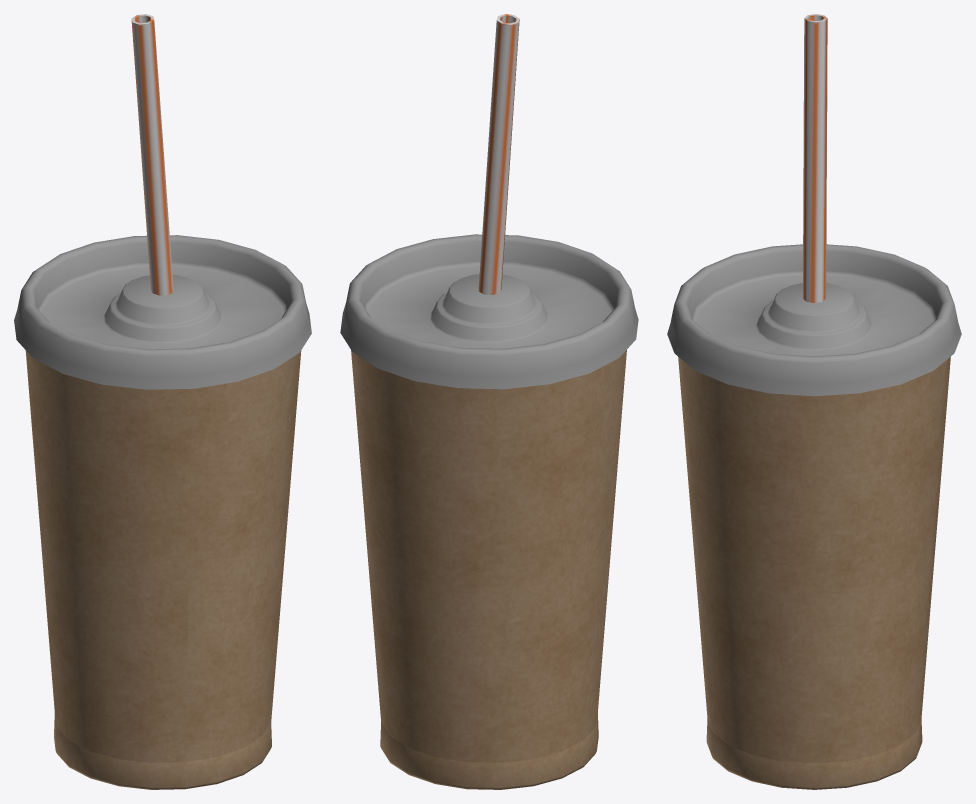
File: Drink_A.fbx
3 views of the same model, side by side, from view 1: azimuth 30°, elevation 25°; view 2: azimuth 150°, elevation 25°; view 3: azimuth 270°, elevation 25° (orthographic).
Visible parts, largest first — view 1: Drink_A; view 2: Drink_A; view 3: Drink_A.
Part boxes in pixels (x1=…): Drink_A: x1=14, y1=14, x2=311, y2=789; Drink_A: x1=340, y1=14, x2=638, y2=789; Drink_A: x1=667, y1=14, x2=961, y2=789.
Size of the model in its own units: 0.1643 by 0.4429 by 0.1643.
